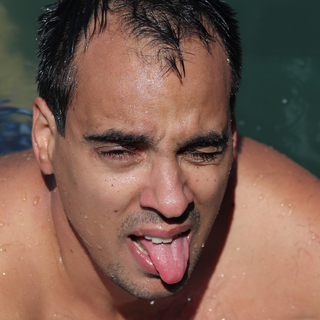eye: (91, 136, 143, 168), (174, 138, 226, 166)
